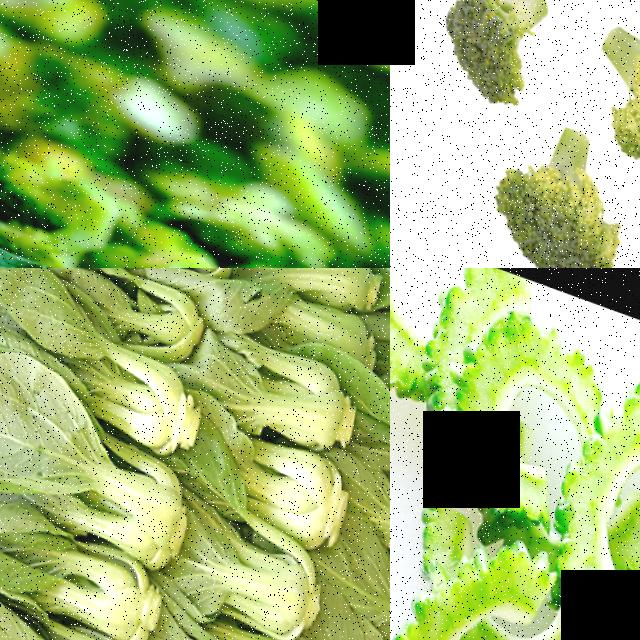bitter gourd: (390, 268, 640, 640)
bok choy: (0, 385, 196, 559), (165, 402, 369, 568), (0, 285, 208, 440), (150, 507, 327, 635), (0, 488, 147, 637), (199, 328, 356, 447), (115, 591, 298, 640), (0, 568, 121, 640), (227, 268, 379, 325), (300, 554, 390, 640), (326, 386, 390, 491), (344, 472, 390, 566), (372, 268, 390, 361), (375, 338, 390, 425)
broccoli: (454, 101, 640, 268), (396, 0, 574, 112), (542, 0, 640, 185)
